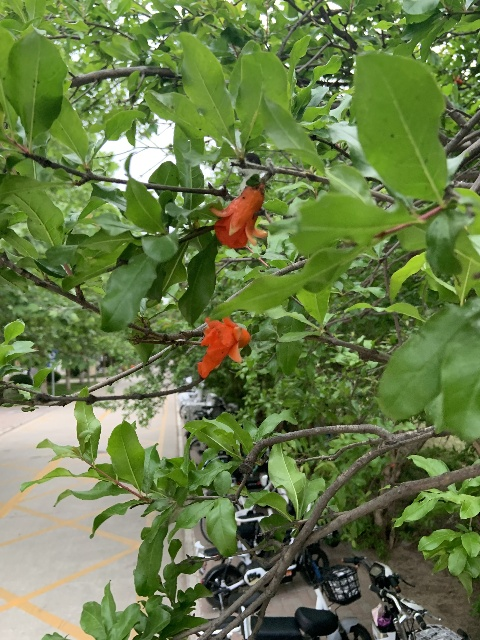flower: (210, 184, 267, 249), (198, 314, 250, 378)
